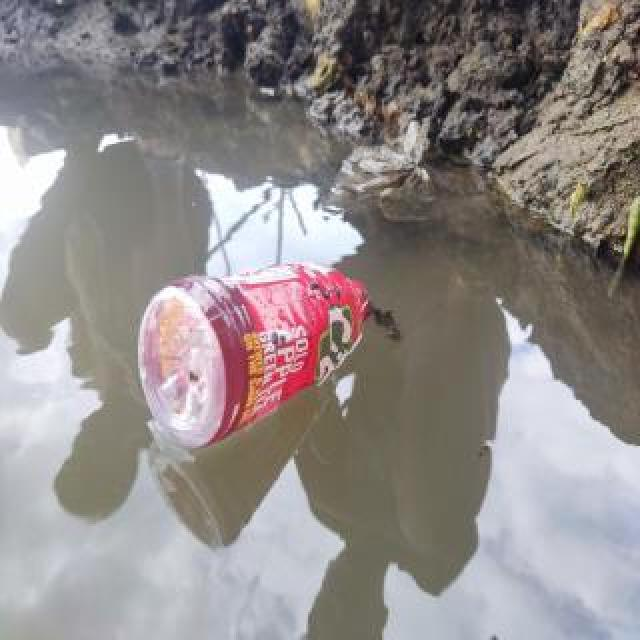bottle: (127, 252, 377, 454)
